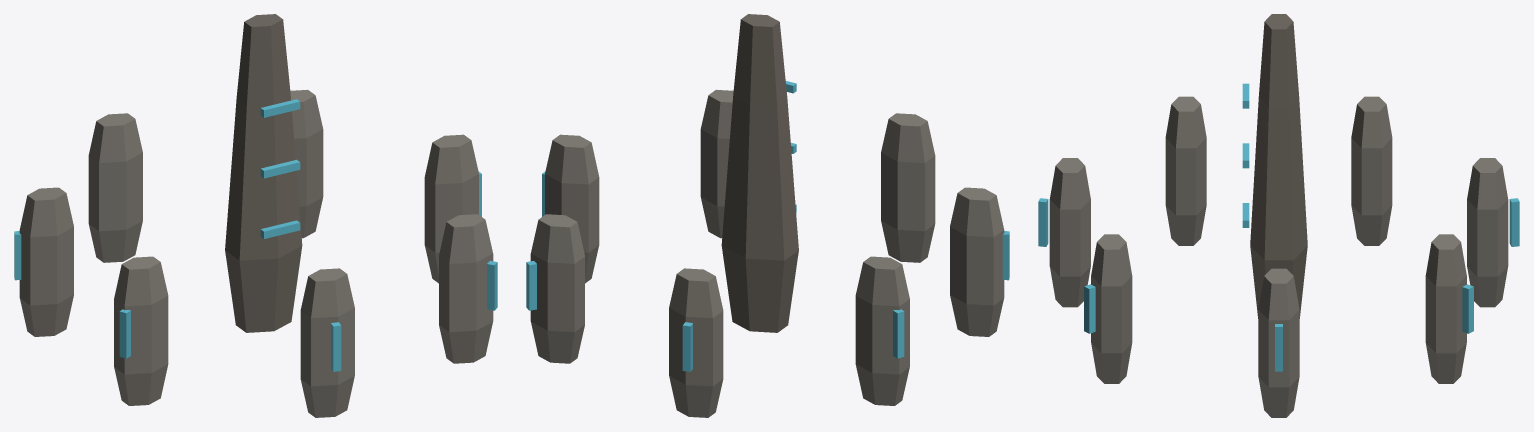
Rendered from dwarf_landmark_broken.glb.
The picture shows the model from 3 angles, left to right: view 1: azimuth 30°, elevation 25°; view 2: azimuth 150°, elevation 25°; view 3: azimuth 270°, elevation 25°; orthographic projection.
Parts seen in each view (by area): view 1: dwarf_landmark_piece3, dwarf_landmark_piece7, dwarf_landmark_piece9, dwarf_landmark_piece13, dwarf_landmark_piece2, dwarf_landmark_piece8, dwarf_landmark_piece5, dwarf_landmark_piece11, dwarf_landmark_piece4, dwarf_landmark_piece6, dwarf_landmark_piece0, dwarf_landmark_piece1 (+2 smaller); view 2: dwarf_landmark_piece3, dwarf_landmark_piece1, dwarf_landmark_piece6, dwarf_landmark_piece7, dwarf_landmark_piece9, dwarf_landmark_piece13, dwarf_landmark_piece2, dwarf_landmark_piece4, dwarf_landmark_piece12, dwarf_landmark_piece5, dwarf_landmark_piece10, dwarf_landmark_piece11 (+1 smaller); view 3: dwarf_landmark_piece3, dwarf_landmark_piece6, dwarf_landmark_piece1, dwarf_landmark_piece2, dwarf_landmark_piece7, dwarf_landmark_piece9, dwarf_landmark_piece13, dwarf_landmark_piece4, dwarf_landmark_piece12, dwarf_landmark_piece5, dwarf_landmark_piece8, dwarf_landmark_piece0 (+1 smaller).
Part boxes in pixels (x1,y1,x2,y2): dwarf_landmark_piece3: [14, 187, 168, 403]; dwarf_landmark_piece7: [225, 106, 302, 332]; dwarf_landmark_piece9: [88, 113, 142, 262]; dwarf_landmark_piece13: [300, 277, 354, 417]; dwarf_landmark_piece2: [290, 93, 481, 281]; dwarf_landmark_piece8: [236, 24, 300, 151]; dwarf_landmark_piece5: [247, 288, 493, 363]; dwarf_landmark_piece11: [439, 245, 497, 311]; dwarf_landmark_piece4: [432, 177, 497, 283]; dwarf_landmark_piece6: [125, 89, 323, 260]; dwarf_landmark_piece0: [125, 336, 168, 405]; dwarf_landmark_piece1: [233, 14, 287, 143]; dwarf_landmark_piece3: [855, 187, 1009, 405]; dwarf_landmark_piece1: [722, 14, 780, 283]; dwarf_landmark_piece6: [526, 216, 696, 417]; dwarf_landmark_piece7: [721, 81, 798, 332]; dwarf_landmark_piece9: [669, 268, 723, 417]; dwarf_landmark_piece13: [881, 116, 935, 262]; dwarf_landmark_piece2: [542, 134, 599, 283]; dwarf_landmark_piece4: [588, 89, 733, 280]; dwarf_landmark_piece12: [881, 113, 921, 183]; dwarf_landmark_piece5: [700, 170, 726, 238]; dwarf_landmark_piece10: [724, 262, 767, 332]; dwarf_landmark_piece11: [700, 148, 728, 179]; dwarf_landmark_piece3: [1165, 96, 1392, 245]; dwarf_landmark_piece6: [1425, 236, 1505, 383]; dwarf_landmark_piece1: [1266, 14, 1307, 270]; dwarf_landmark_piece2: [1259, 234, 1454, 417]; dwarf_landmark_piece7: [1242, 83, 1304, 303]; dwarf_landmark_piece9: [1467, 158, 1519, 286]; dwarf_landmark_piece13: [1038, 158, 1090, 307]; dwarf_landmark_piece4: [1084, 234, 1272, 417]; dwarf_landmark_piece12: [1055, 158, 1090, 240]; dwarf_landmark_piece5: [1089, 281, 1259, 383]; dwarf_landmark_piece8: [1242, 17, 1285, 188]; dwarf_landmark_piece0: [1165, 188, 1201, 245].
Size of the model in its own units: 2.85 by 2 by 2.92.
